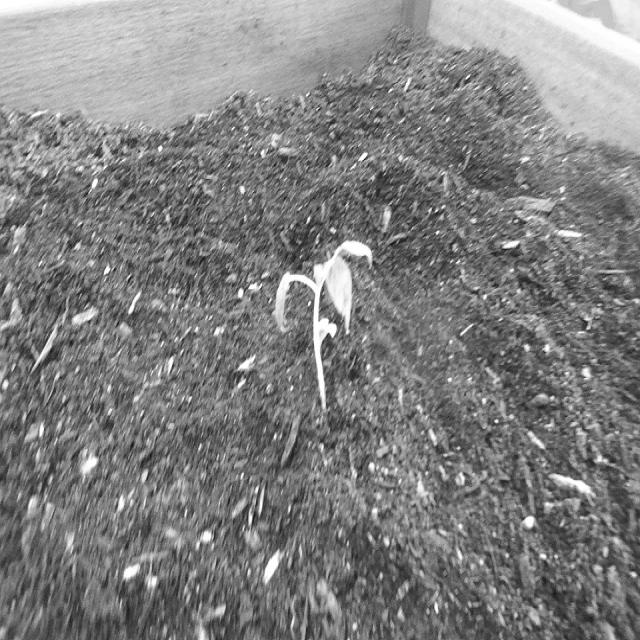Healthy: (269, 216, 383, 419)
